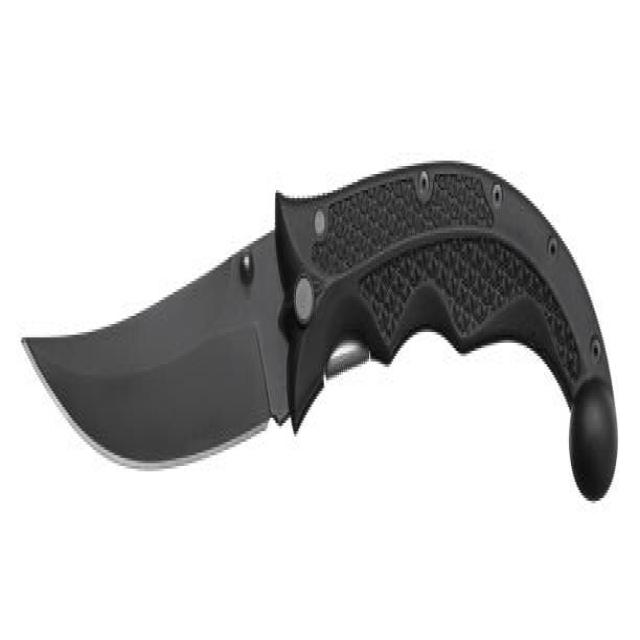knife: (19, 150, 622, 540)
